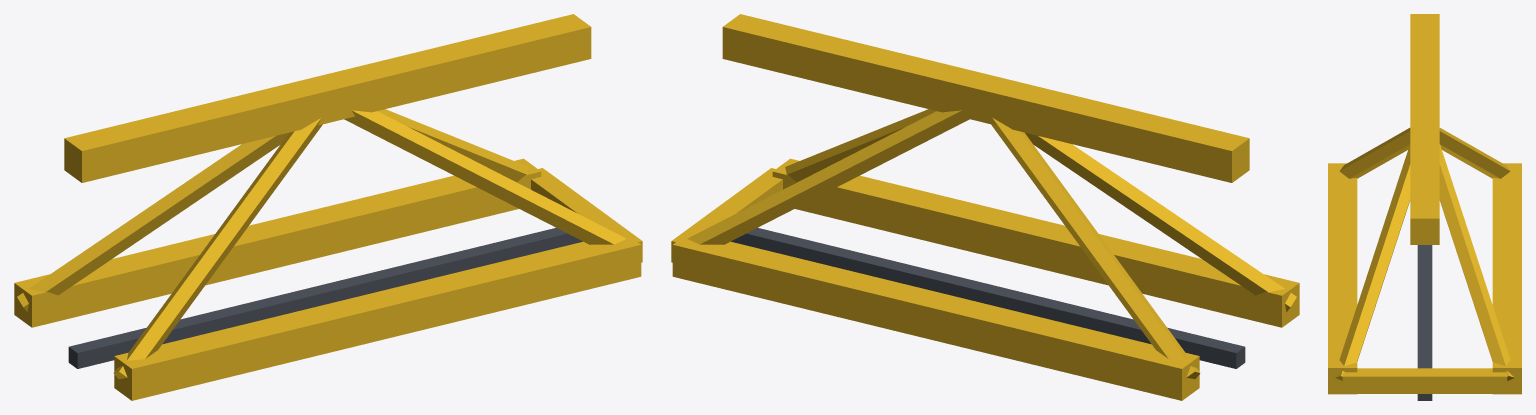
The model's file is crane-jib.glb.
The picture shows the model from 3 angles, left to right: view 1: azimuth 30°, elevation 25°; view 2: azimuth 150°, elevation 25°; view 3: azimuth 270°, elevation 25°; orthographic projection. The views are drawn at different scales.
Parts seen in each view (by area): view 1: part-crane, part-crane-dark; view 2: part-crane, part-crane-dark; view 3: part-crane, part-crane-dark.
Part boxes in pixels (<box>): part-crane: <box>14,14,642,400</box>; part-crane-dark: <box>68,228,582,368</box>; part-crane: <box>671,14,1299,400</box>; part-crane-dark: <box>731,228,1245,368</box>; part-crane: <box>1328,14,1521,394</box>; part-crane-dark: <box>1417,245,1432,400</box>.
Bounding box in the file's own units: 10.3 × 4.15 × 4.
